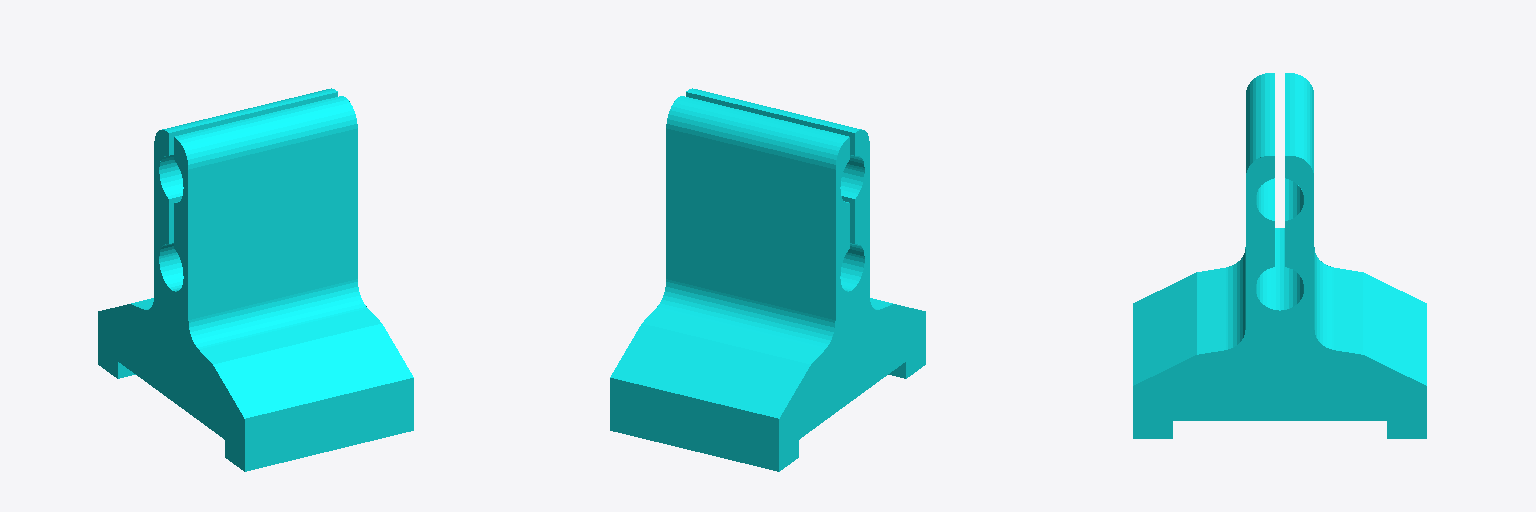
File: right.obj
3 views of the same model, side by side, from view 1: azimuth 30°, elevation 25°; view 2: azimuth 150°, elevation 25°; view 3: azimuth 270°, elevation 25° (orthographic).
Parts seen in each view (by area): view 1: _1_DC_Shell; view 2: _1_DC_Shell; view 3: _1_DC_Shell.
Part boxes in pixels (x1,y1,x2,y2): _1_DC_Shell: (98, 88, 413, 471); _1_DC_Shell: (610, 88, 925, 471); _1_DC_Shell: (1133, 73, 1426, 438).
Size of the model in its own units: 20 by 32 by 30.